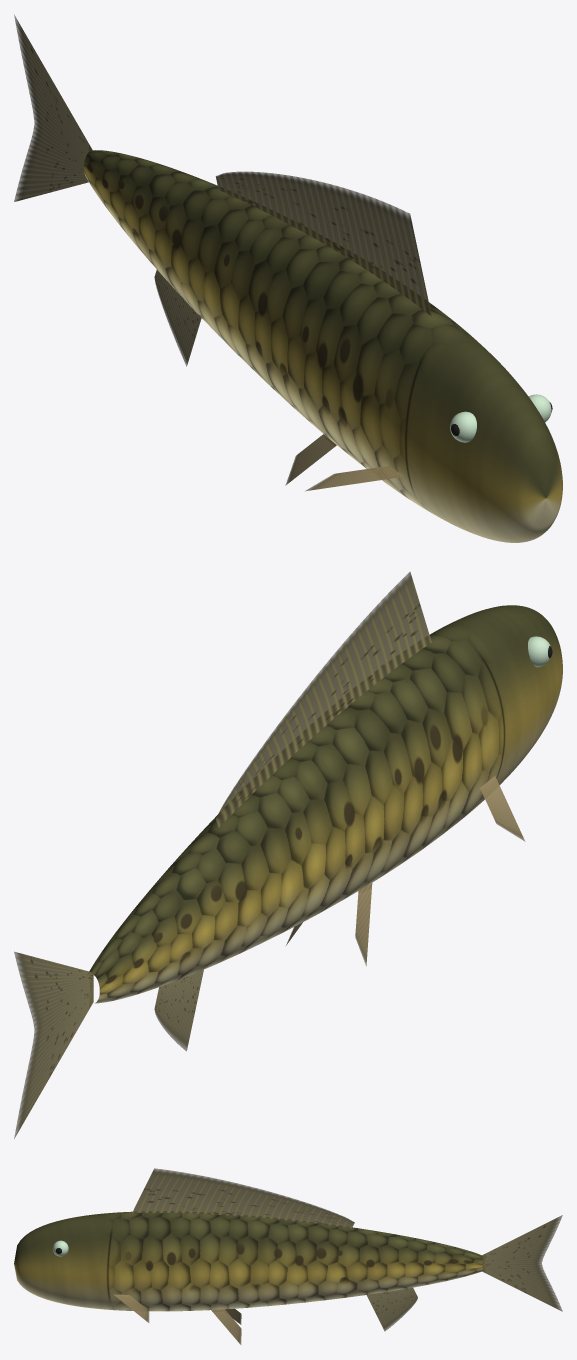
File: ersh.glb
3 views of the same model, one above another, from view 1: azimuth 30°, elevation 25°; view 2: azimuth 150°, elevation 25°; view 3: azimuth 270°, elevation 25° (orthographic). The views are drawn at different scales.
Visible parts, largest first — view 1: body, fin_dorsal0, fin_tail, fin_anal0, fin_pect_R, fin_pelv_R; view 2: body, fin_dorsal0, fin_tail, fin_anal0, fin_pect_R, fin_pelv_R; view 3: body, fin_dorsal0, fin_tail, fin_anal0, fin_pelv_L, fin_pect_L.
Boxes of the visible parts, x1,y1,x2,y2 form: body: [83, 150, 562, 542]; fin_dorsal0: [215, 171, 431, 316]; fin_tail: [14, 14, 92, 201]; fin_anal0: [154, 269, 201, 366]; fin_pect_R: [305, 466, 404, 491]; fin_pelv_R: [285, 434, 336, 485]; body: [89, 605, 562, 1003]; fin_dorsal0: [215, 572, 431, 827]; fin_tail: [14, 951, 93, 1138]; fin_anal0: [154, 969, 203, 1051]; fin_pect_R: [480, 776, 525, 841]; fin_pelv_R: [355, 883, 372, 965]; body: [14, 1211, 482, 1311]; fin_dorsal0: [132, 1168, 354, 1228]; fin_tail: [482, 1215, 562, 1311]; fin_anal0: [366, 1287, 417, 1331]; fin_pelv_L: [211, 1309, 241, 1344]; fin_pect_L: [113, 1294, 149, 1322].
Size of the model in its own units: 0.0336 by 0.047 by 0.14.
Materials: 5 (3 with a texture image).
